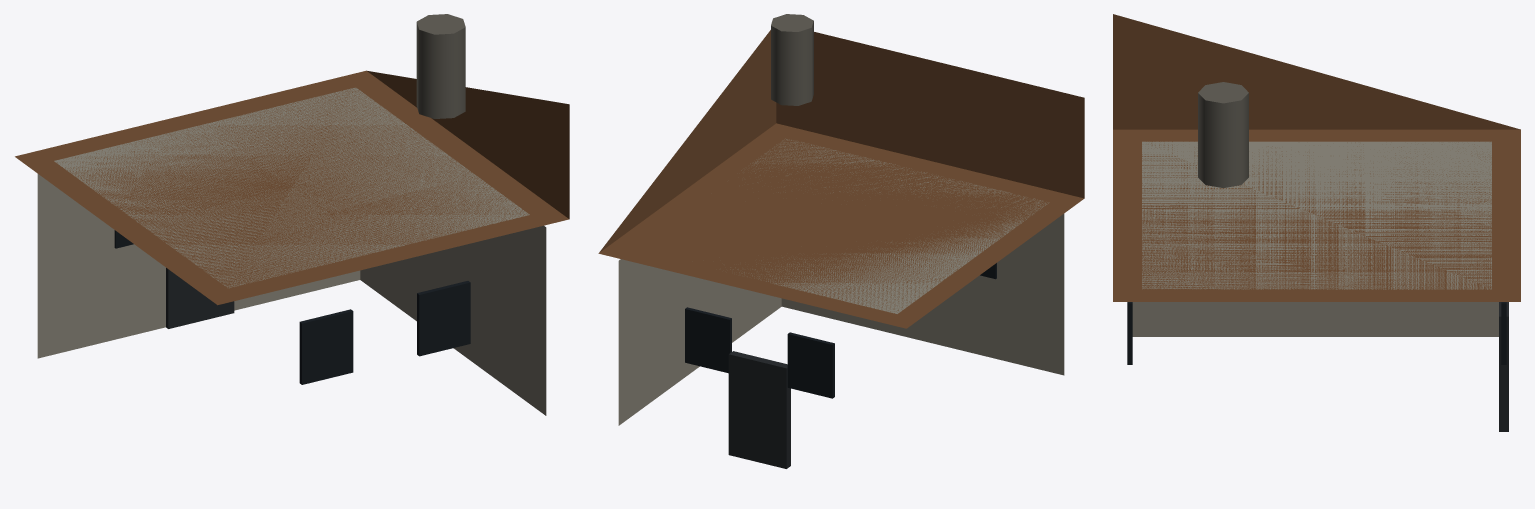
The model's file is civilian_structure.glb.
3 views of the same model, side by side, from view 1: azimuth 30°, elevation 25°; view 2: azimuth 150°, elevation 25°; view 3: azimuth 270°, elevation 25° (orthographic). The views are drawn at different scales.
Parts seen in each view (by area): view 1: Body; view 2: Body; view 3: Body.
Boxes of the visible parts, x1,y1,x2,y2 form: Body: (15,14,569,415); Body: (598,14,1084,468); Body: (1113,14,1520,431).
Bounding box in the file's own units: 4.8 × 4.85 × 4.8.
